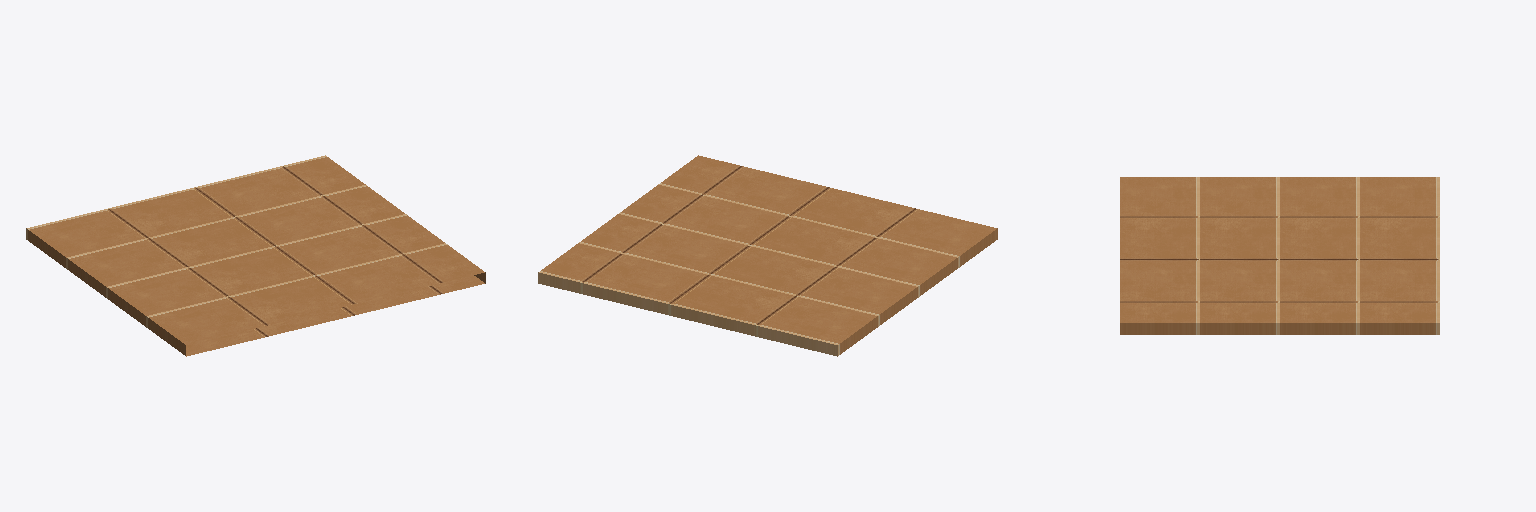
3 renders of one model, left to right at view 1: azimuth 30°, elevation 25°; view 2: azimuth 150°, elevation 25°; view 3: azimuth 270°, elevation 25°, orthographic.
Visible parts, largest first — view 1: Wall.003, Wall, Wall.002, Wall.001; view 2: Wall, Wall.002, Wall.001, Wall.003; view 3: Wall, Wall.001, Wall.002, Wall.003.
Part boxes in pixels (left/top/right/bottom): Wall.003: left=146, top=243, right=485, bottom=356; Wall: left=26, top=155, right=365, bottom=267; Wall.002: left=106, top=214, right=444, bottom=326; Wall.001: left=66, top=185, right=404, bottom=297; Wall: left=538, top=243, right=877, bottom=356; Wall.002: left=619, top=185, right=957, bottom=297; Wall.001: left=579, top=214, right=917, bottom=326; Wall.003: left=658, top=155, right=997, bottom=267; Wall: left=1360, top=177, right=1439, bottom=334; Wall.001: left=1280, top=177, right=1359, bottom=334; Wall.002: left=1200, top=177, right=1279, bottom=334; Wall.003: left=1120, top=177, right=1199, bottom=334.
Bounding box in the file's own units: 17.48 × 0.6281 × 16.18.
Materials: 1 (1 with a texture image).